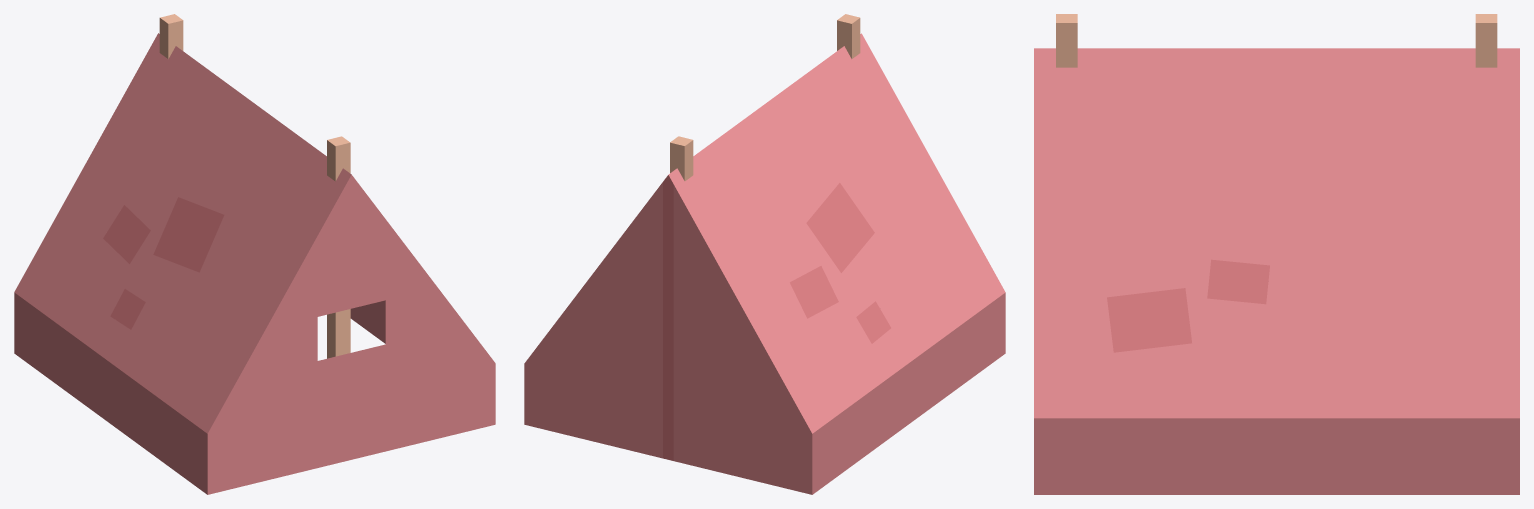
Rendered from tent_smallClosed.glb.
3 views of the same model, side by side, from view 1: azimuth 30°, elevation 25°; view 2: azimuth 150°, elevation 25°; view 3: azimuth 270°, elevation 25° (orthographic). The views are drawn at different scales.
Visible parts, largest first — view 1: tent_smallClosed; view 2: tent_smallClosed; view 3: tent_smallClosed.
Part boxes in pixels (left/top/right/bottom): tent_smallClosed: left=14, top=14, right=495, bottom=494; tent_smallClosed: left=524, top=14, right=1005, bottom=494; tent_smallClosed: left=1034, top=14, right=1519, bottom=494.
Bounding box in the file's own units: 0.5476 × 0.5611 × 0.6364.
